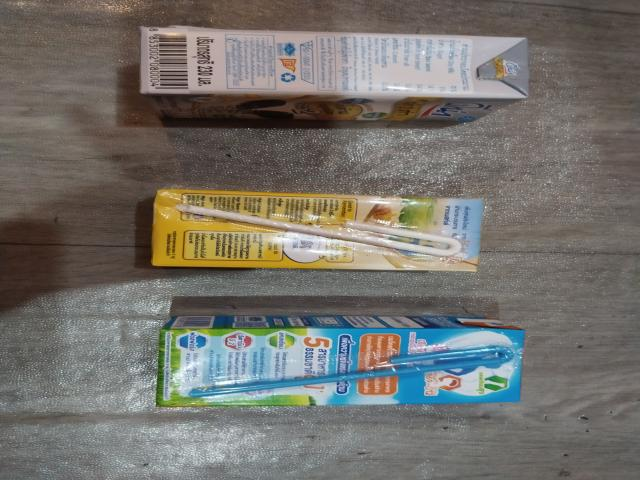drink_box: (130, 20, 549, 130), (149, 310, 537, 412), (132, 183, 492, 278)
